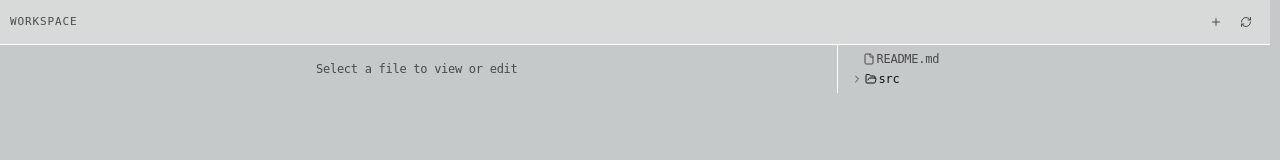
it: WorkspacePanel › deletes the selected file after confirmation and clears the viewer
Click the button "README.md": [908, 59] box [845,49,1266,69]
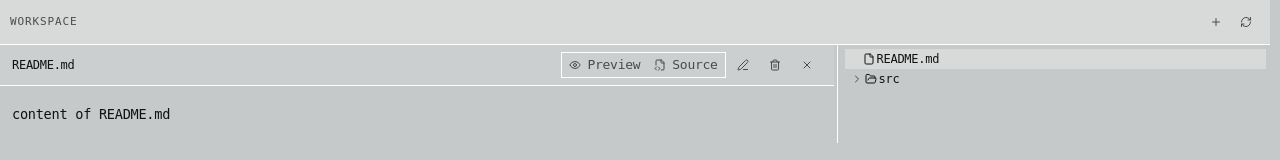
Check: the text "content of README.md" is shown, box [12,106,170,122]
Click the button named "Delete file": [775, 65] box [760,51,790,79]
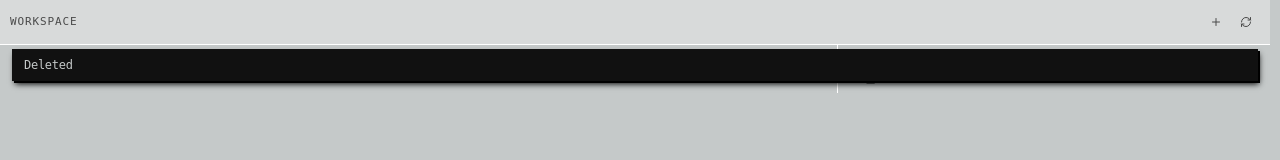
Check: the text "Deleted" is shown, box [12,49,1258,81]
